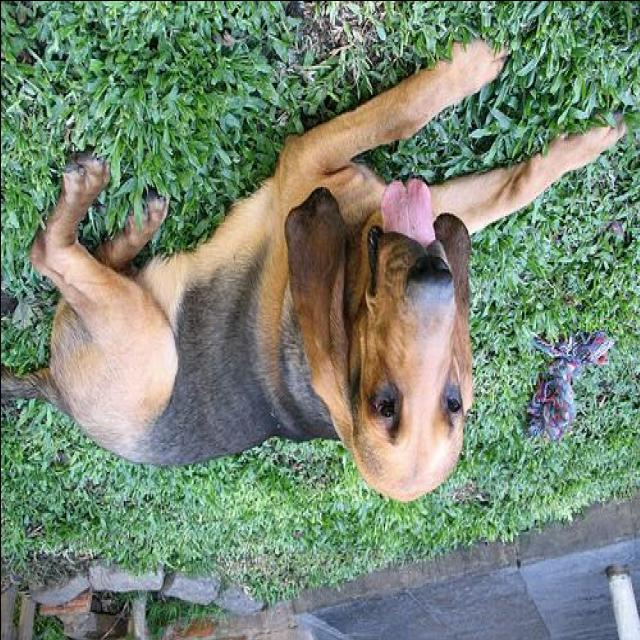bloodhound: (2, 27, 630, 507)
